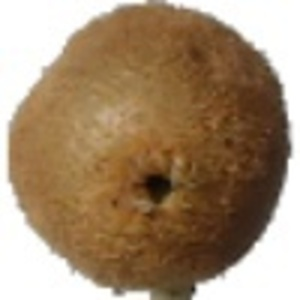kiwi: (5, 1, 292, 300)
